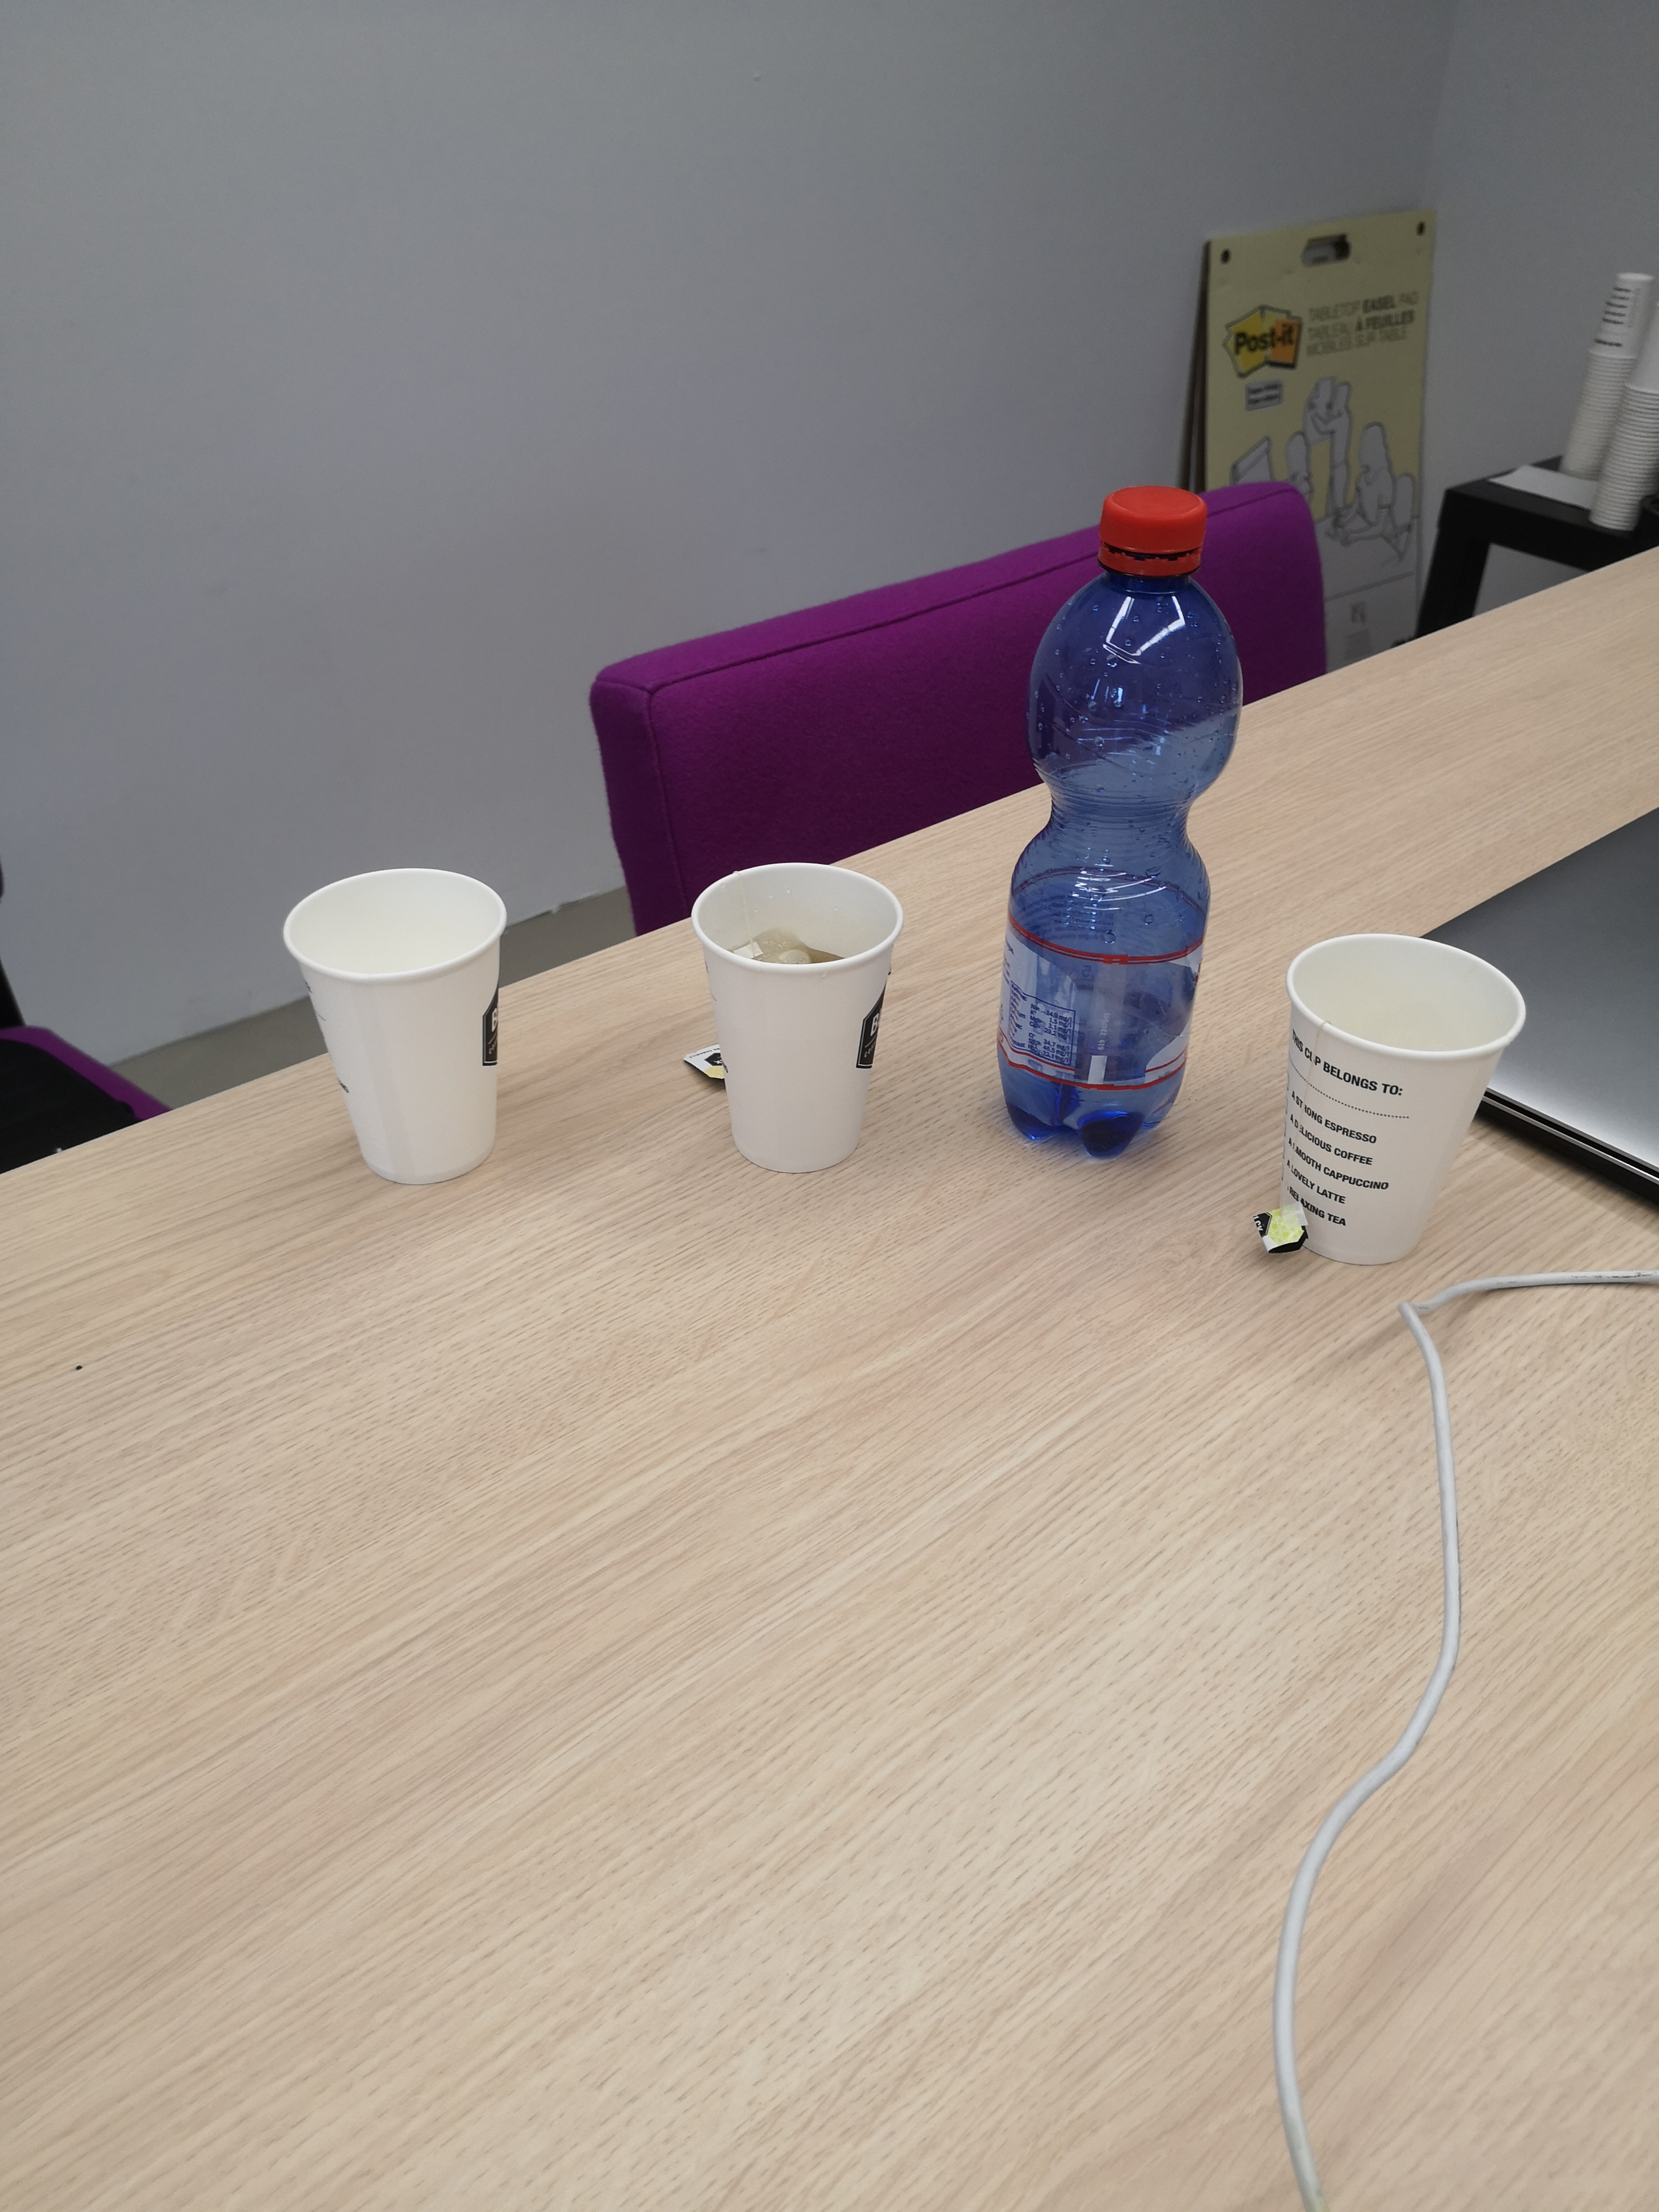cup: (1258, 918, 1549, 1315), (274, 848, 538, 1217), (683, 843, 913, 1200)
plastic_bottle: (983, 456, 1274, 1197)
